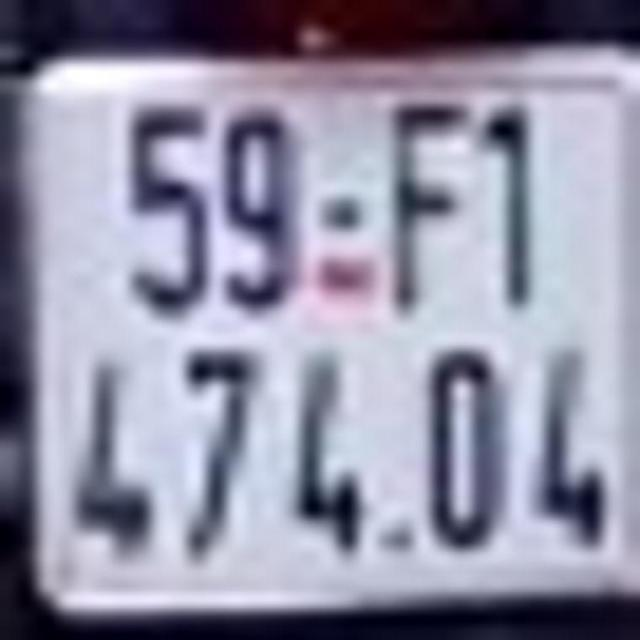0: (420, 346, 504, 553)
1: (482, 99, 540, 312)
4: (280, 338, 375, 554), (68, 354, 159, 560), (536, 338, 612, 553)
5: (119, 97, 211, 313)
7: (168, 340, 254, 559)
9: (216, 100, 298, 314)
F: (388, 97, 478, 314)
